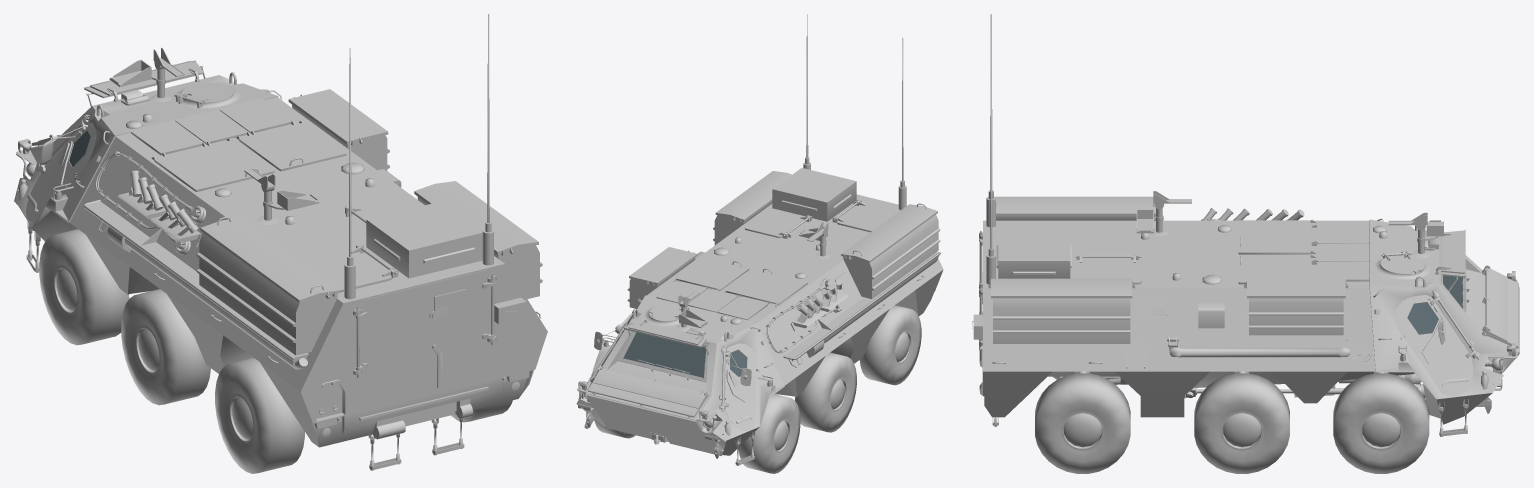
Rendered from VAB_lod1.FBX.
The picture shows the model from 3 angles, left to right: view 1: azimuth 30°, elevation 25°; view 2: azimuth 150°, elevation 25°; view 3: azimuth 270°, elevation 25°; orthographic projection. The views are drawn at different scales.
Visible parts, largest first — view 1: VAB_BODY001, VAB_WHEEL_L03, VAB_WHEEL_L01, VAB_WHEEL_L02, VAB_DOOR_LB, VAB_DOOR_RB, VAB_DOOR_TOP4, VAB_DOOR_TOP5, Cylinder1099, VAB_DOOR_TOP7, VAB_DOOR_TOP1, VAB_DOOR_TOP3 (+2 smaller); view 2: VAB_BODY001, VAB_WHEEL_L03, VAB_WHEEL_L02, VAB_WHEEL_L01, Cylinder1099, VAB_DOOR_TOP4, VAB_DOOR_TOP5, VAB_DOOR_TOP6, VAB_DOOR_TOP7, VAB_DOOR_TOP1, VAB_DOOR_TOP2, VAB_DOOR_TOP3; view 3: VAB_BODY001, VAB_WHEEL_R01, VAB_WHEEL_R03, VAB_WHEEL_R02, Cylinder1100, VAB_DOOR_TOP4, VAB_DOOR_TOP5, VAB_DOOR_TOP6, VAB_DOOR_TOP3, VAB_DOOR_TOP2, VAB_DOOR_TOP1, Cylinder1101 (+1 smaller).
Part boxes in pixels (x1,y1,x2,y2): VAB_BODY001: (14, 14, 547, 470); VAB_WHEEL_L03: (215, 357, 304, 473); VAB_WHEEL_L01: (39, 229, 129, 345); VAB_WHEEL_L02: (121, 289, 210, 405); VAB_DOOR_LB: (355, 285, 424, 411); VAB_DOOR_RB: (424, 270, 494, 396); VAB_DOOR_TOP4: (154, 140, 274, 191); VAB_DOOR_TOP5: (239, 122, 346, 171); Cylinder1099: (26, 119, 95, 221); VAB_DOOR_TOP7: (302, 246, 394, 292); VAB_DOOR_TOP1: (131, 120, 203, 155); VAB_DOOR_TOP3: (220, 99, 292, 133); VAB_BODY001: (576, 14, 943, 465); VAB_WHEEL_L03: (859, 305, 921, 385); VAB_WHEEL_L02: (795, 352, 856, 432); VAB_WHEEL_L01: (738, 394, 800, 473); Cylinder1099: (721, 343, 757, 430); VAB_DOOR_TOP4: (725, 268, 807, 304); VAB_DOOR_TOP5: (675, 257, 749, 290); VAB_DOOR_TOP6: (744, 208, 809, 238); VAB_DOOR_TOP7: (835, 200, 898, 232); VAB_DOOR_TOP1: (717, 296, 767, 320); VAB_DOOR_TOP2: (688, 289, 737, 312); VAB_DOOR_TOP3: (656, 281, 706, 303); VAB_BODY001: (972, 14, 1519, 436); VAB_WHEEL_R01: (1333, 373, 1429, 473); VAB_WHEEL_R03: (1035, 373, 1130, 473); VAB_WHEEL_R02: (1194, 373, 1289, 473); Cylinder1100: (1394, 295, 1476, 396); VAB_DOOR_TOP4: (1238, 220, 1310, 254); VAB_DOOR_TOP5: (1238, 255, 1310, 284); VAB_DOOR_TOP6: (1074, 255, 1141, 284); VAB_DOOR_TOP3: (1317, 261, 1369, 281); VAB_DOOR_TOP2: (1317, 243, 1369, 261); VAB_DOOR_TOP1: (1317, 225, 1369, 243); Cylinder1101: (1060, 371, 1425, 398).
Size of the model in its own units: 13.1 by 22.06 by 28.78.
